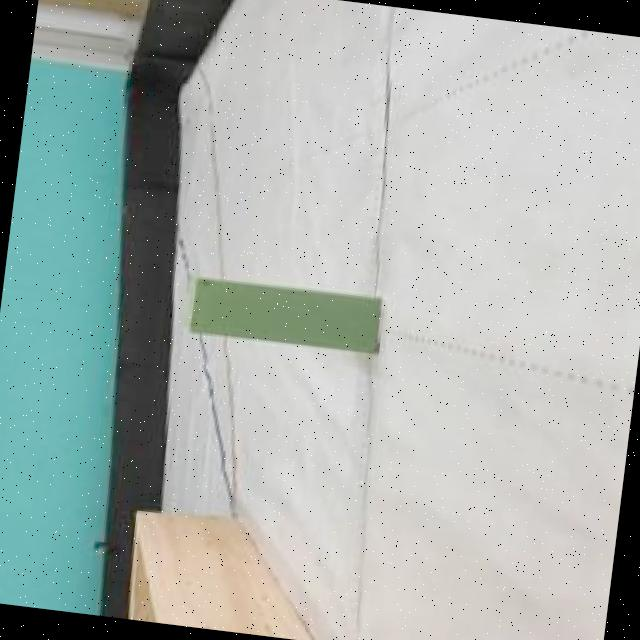greenbox: (181, 271, 384, 360)
